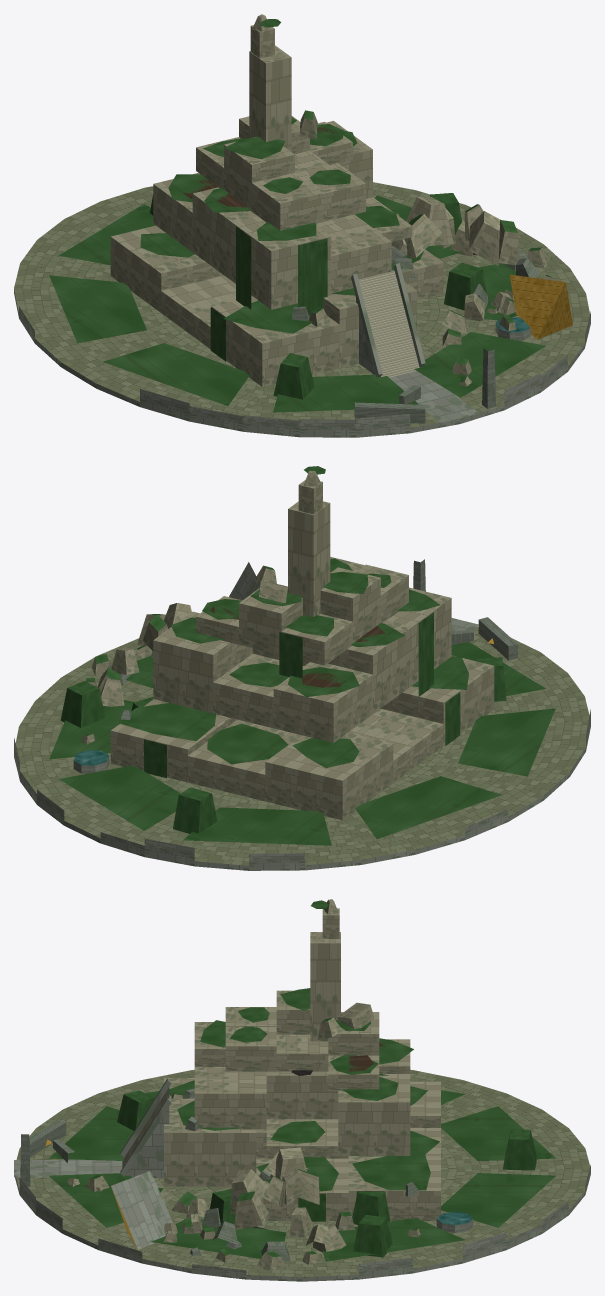
Rendered from pyramid_large_destroyed_lod0.glb.
3 views of the same model, one above another, from view 1: azimuth 30°, elevation 25°; view 2: azimuth 150°, elevation 25°; view 3: azimuth 270°, elevation 25° (orthographic). The views are drawn at different scales.
Parts seen in each view (by area): view 1: pyramid_large_destroyed_lod0; view 2: pyramid_large_destroyed_lod0; view 3: pyramid_large_destroyed_lod0.
Boxes of the visible parts, x1,y1,x2,y2 form: pyramid_large_destroyed_lod0: (14,14,590,437); pyramid_large_destroyed_lod0: (14,466,590,870); pyramid_large_destroyed_lod0: (14,899,590,1281).
Size of the model in its own units: 1.68 by 0.9706 by 1.9.
Materials: 1 (1 with a texture image).
